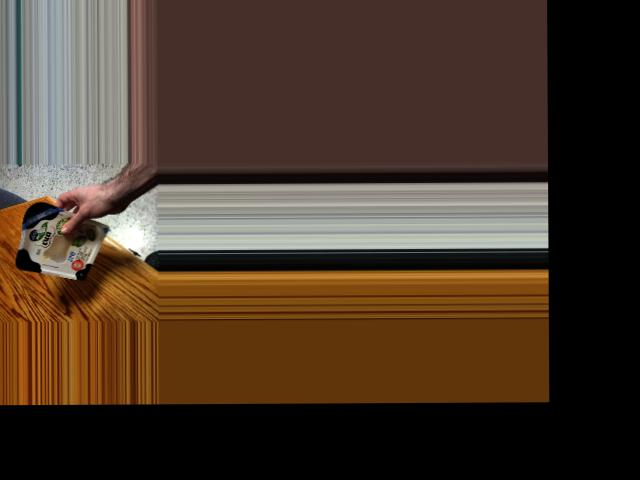cheese: (17, 204, 94, 278)
